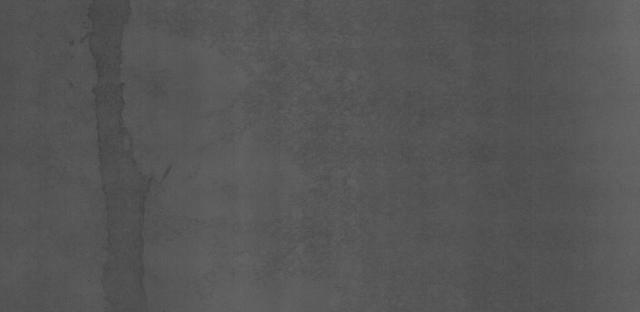water_spot: (80, 15, 180, 301)
